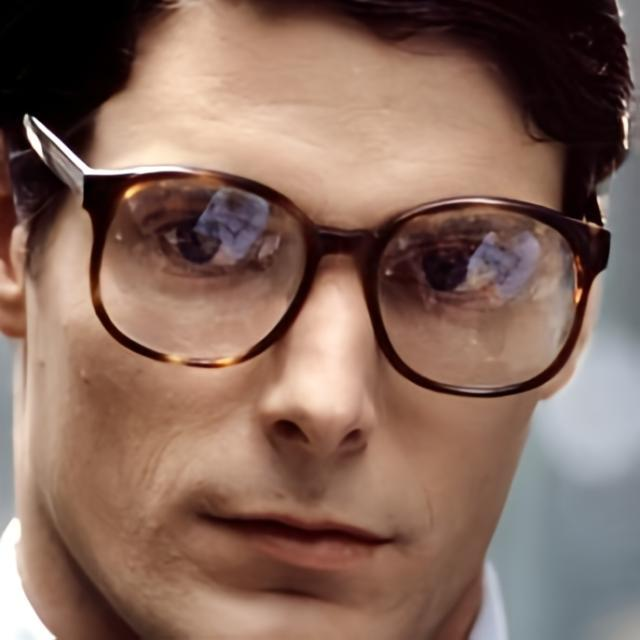surprise: (22, 3, 564, 640)
